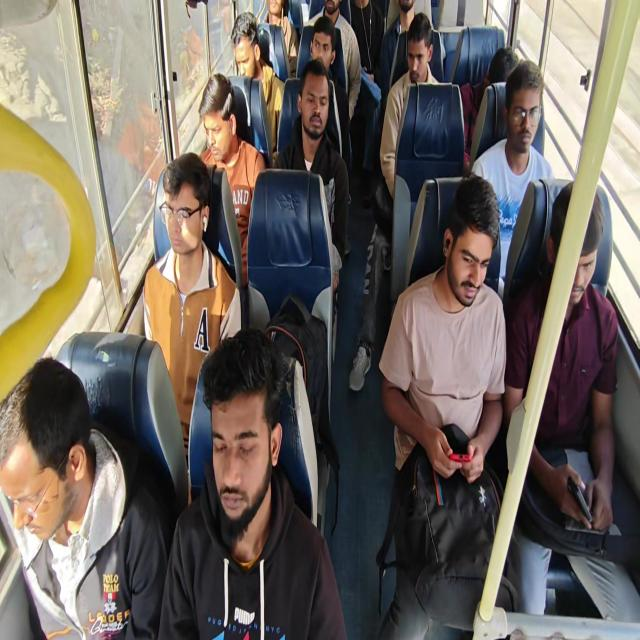person: (377, 173, 510, 638), (503, 179, 638, 621), (158, 326, 348, 639), (0, 355, 169, 639), (349, 12, 441, 391), (142, 152, 242, 496), (273, 58, 350, 361), (470, 58, 555, 298), (197, 72, 267, 286), (380, 12, 440, 198), (230, 11, 285, 158), (459, 46, 519, 168), (349, 0, 384, 205), (308, 16, 352, 166), (378, 0, 417, 116), (350, 0, 384, 83), (260, 0, 299, 69)
